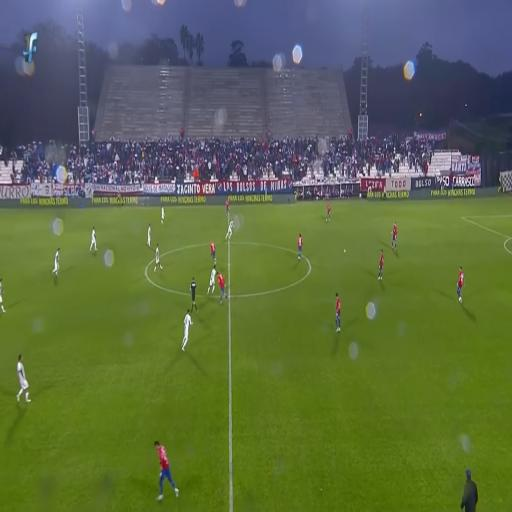Ball: (343, 248, 346, 252)
Player: (155, 439, 179, 497), (16, 355, 31, 403), (181, 308, 193, 349), (217, 273, 229, 303), (207, 239, 219, 268), (336, 293, 344, 331), (207, 264, 217, 294), (52, 249, 63, 276), (0, 276, 8, 313), (378, 250, 387, 280), (154, 243, 162, 273), (458, 266, 464, 303), (90, 224, 97, 254), (391, 214, 397, 249), (224, 194, 231, 218), (226, 218, 233, 240), (298, 232, 303, 262), (147, 223, 152, 248), (162, 199, 166, 224), (328, 198, 332, 222)
Referee: (189, 274, 197, 308), (117, 189, 121, 208)
